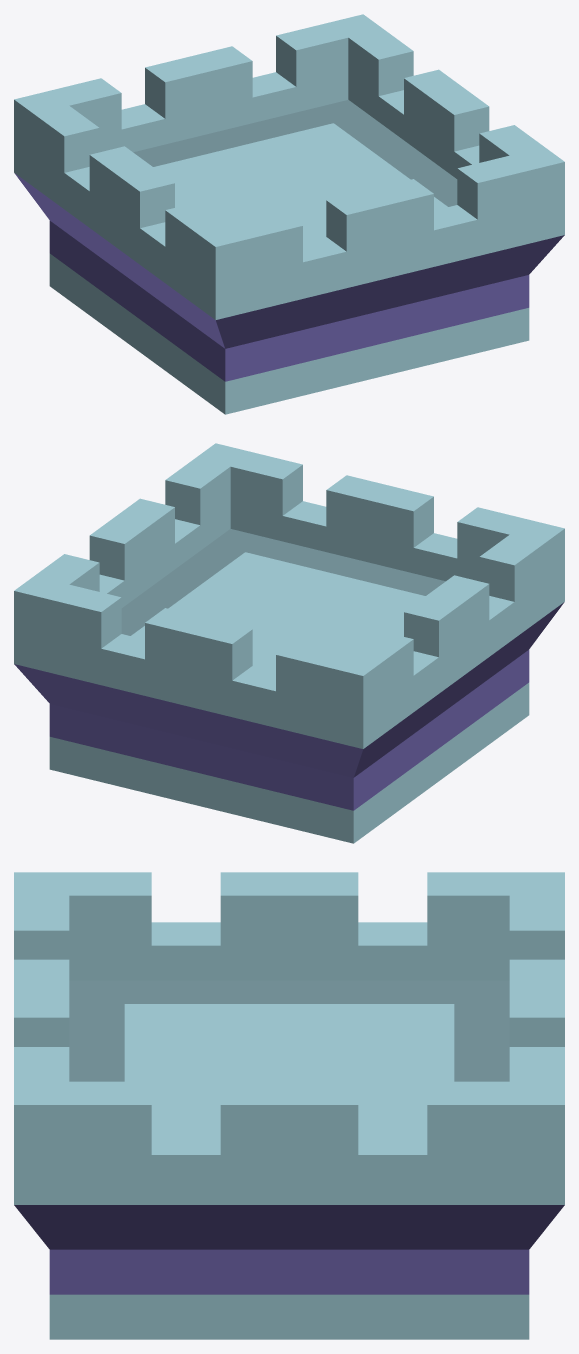
3 renders of one model, top to bottom at view 1: azimuth 30°, elevation 25°; view 2: azimuth 150°, elevation 25°; view 3: azimuth 270°, elevation 25°, orthographic. The views are drawn at different scales.
Visible parts, largest first — view 1: towerSquare_topA; view 2: towerSquare_topA; view 3: towerSquare_topA.
Boxes of the visible parts, x1,y1,x2,y2 form: towerSquare_topA: (14,14,564,414); towerSquare_topA: (14,443,564,843); towerSquare_topA: (14,872,564,1339).
Bounding box in the file's own units: 1 × 0.5 × 1.
